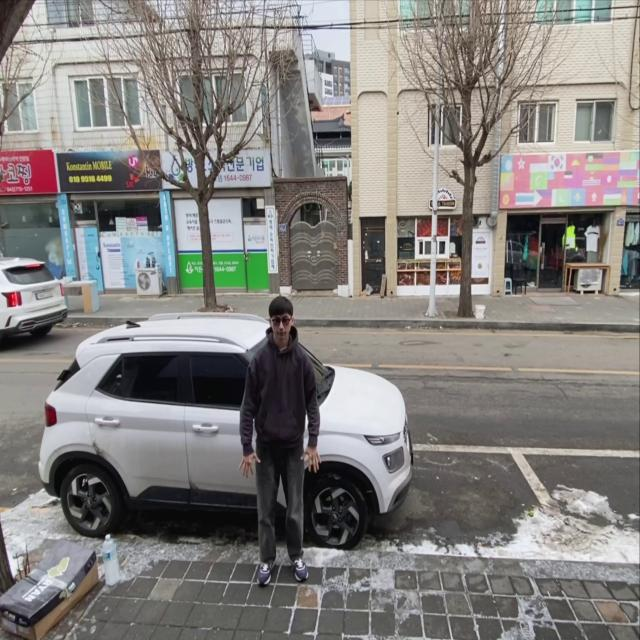bare_hand: (296, 444, 324, 478), (238, 454, 262, 480)
